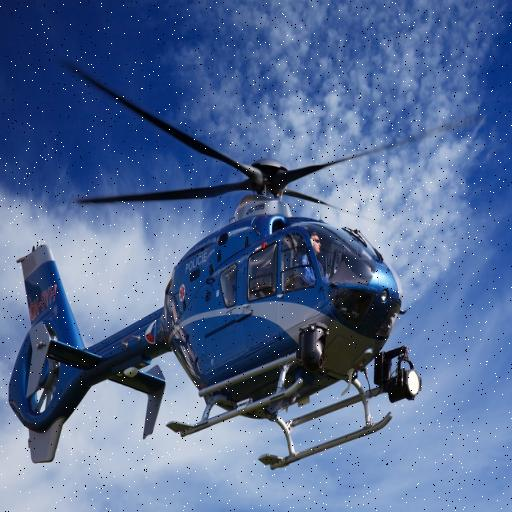helicopter: (17, 59, 436, 472)
